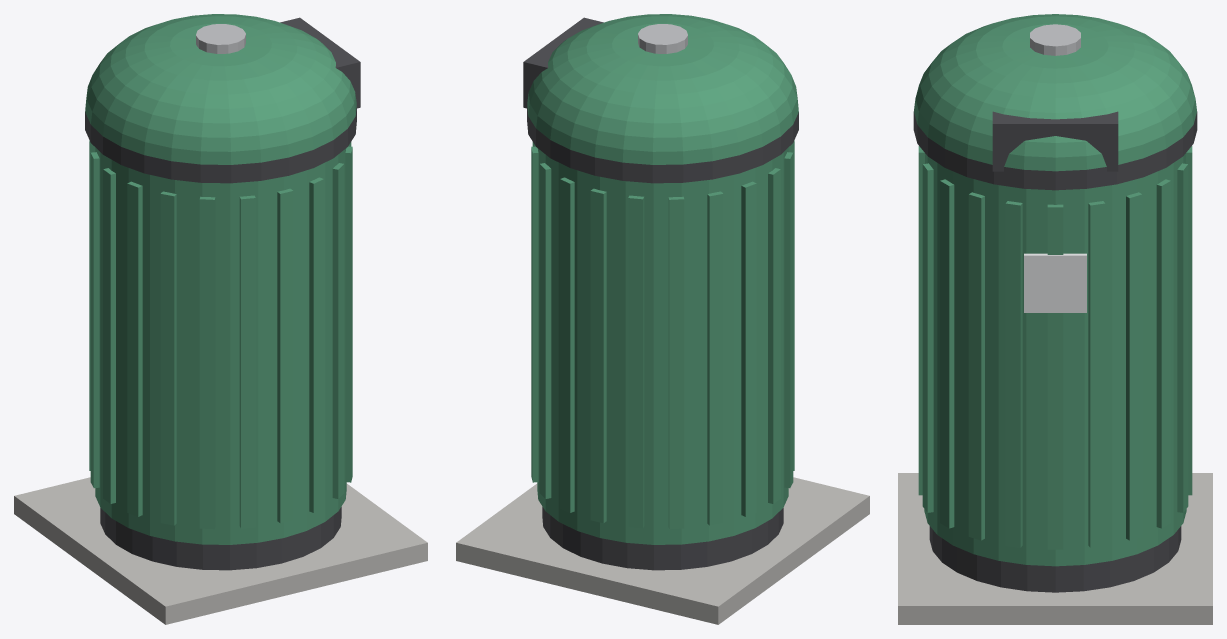
Rendered from SM_Prop_OutdoorBin.fbx.
The picture shows the model from 3 angles, left to right: view 1: azimuth 30°, elevation 25°; view 2: azimuth 150°, elevation 25°; view 3: azimuth 270°, elevation 25°; orthographic projection. The views are drawn at different scales.
Parts seen in each view (by area): view 1: SM_Prop_OutdoorBin; view 2: SM_Prop_OutdoorBin; view 3: SM_Prop_OutdoorBin.
Part boxes in pixels (x1,y1,x2,y2): SM_Prop_OutdoorBin: [14, 14, 427, 624]; SM_Prop_OutdoorBin: [456, 14, 869, 624]; SM_Prop_OutdoorBin: [898, 14, 1212, 624].
Size of the model in its own units: 0.6 by 0.6 by 1.1.
